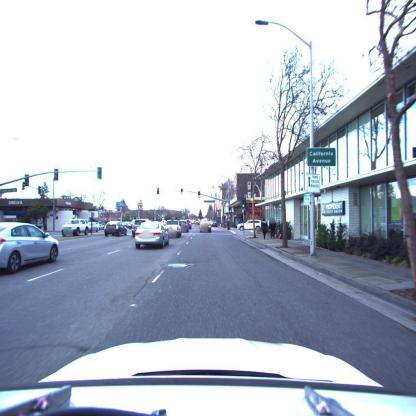car: (1, 221, 61, 275), (136, 223, 171, 251), (62, 219, 93, 237), (240, 220, 264, 235), (103, 221, 127, 236), (166, 219, 182, 238), (131, 220, 149, 236), (199, 220, 212, 233), (178, 220, 190, 233)
person: (270, 217, 278, 239), (261, 218, 268, 239)
